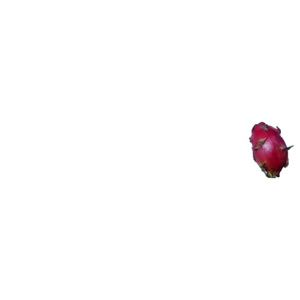pitaia: (250, 122, 293, 179)
